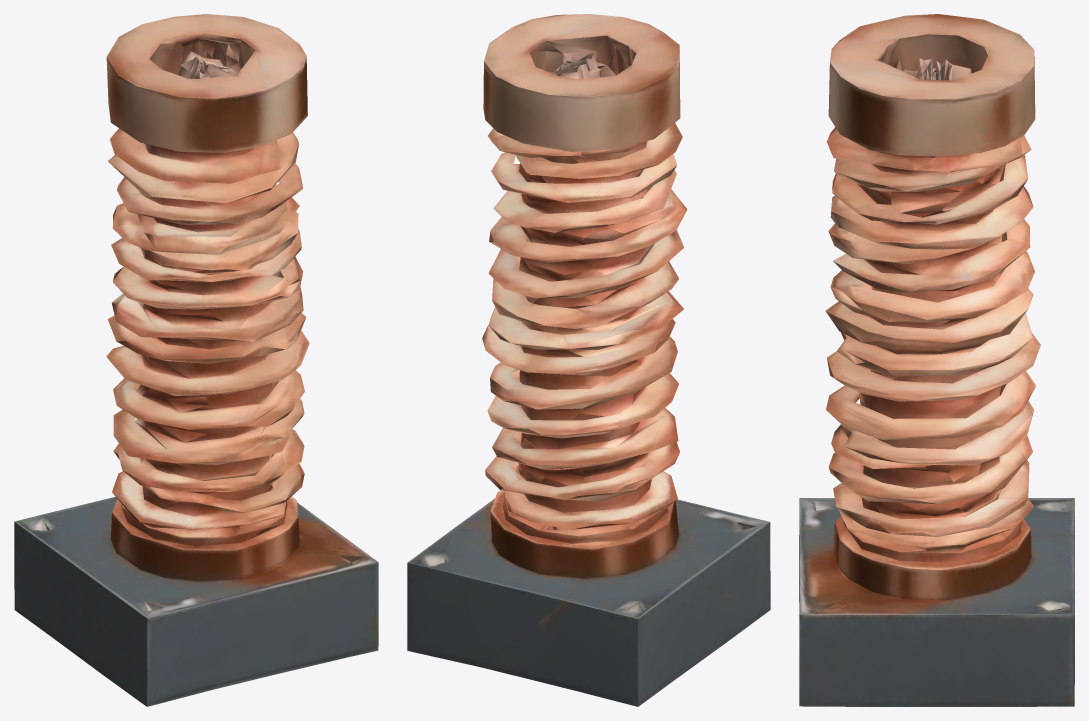
Rendered from m2TeslaCoil.glb.
3 renders of one model, left to right at view 1: azimuth 30°, elevation 25°; view 2: azimuth 150°, elevation 25°; view 3: azimuth 270°, elevation 25°, orthographic. The views are drawn at different scales.
Visible parts, largest first — view 1: model; view 2: model; view 3: model.
Part boxes in pixels (left/top/right/bottom): model: left=14, top=14, right=378, bottom=706; model: left=407, top=14, right=770, bottom=706; model: left=799, top=14, right=1074, bottom=706.
Bounding box in the file's own units: 0.8016 × 1.9 × 0.7965.
1 material, 1 textured.
